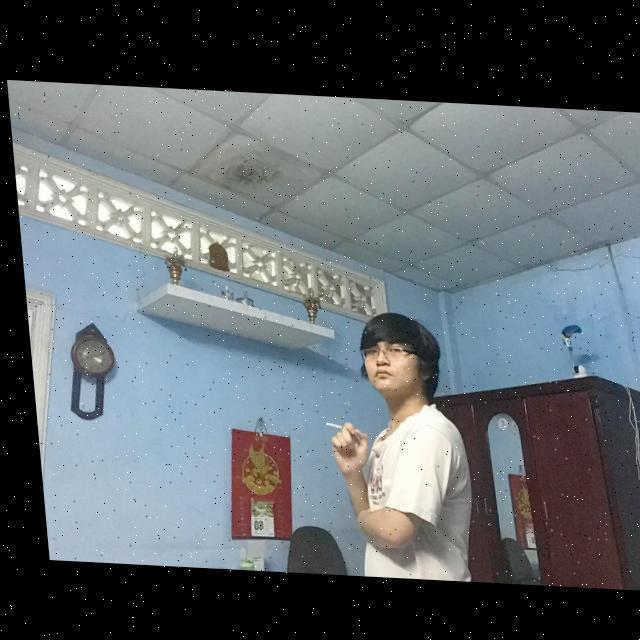cigarette: (317, 418, 338, 426)
